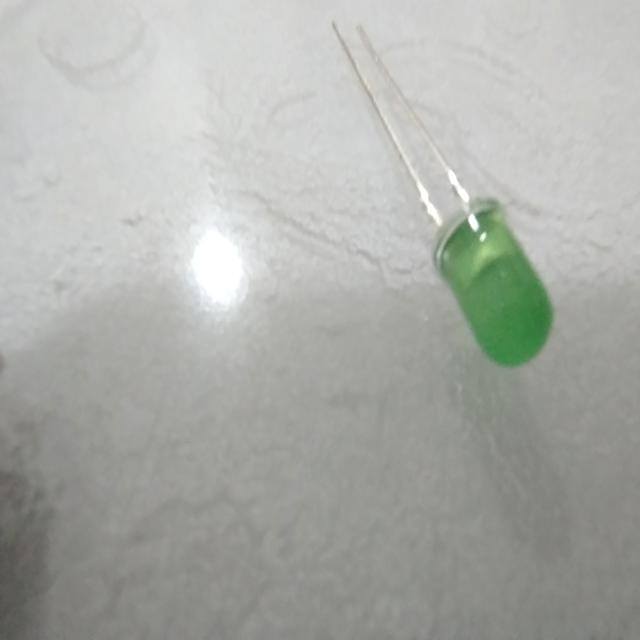green_led: (425, 182, 560, 378)
